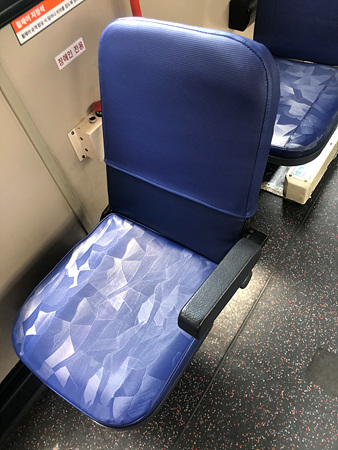seat: (14, 19, 268, 420)
